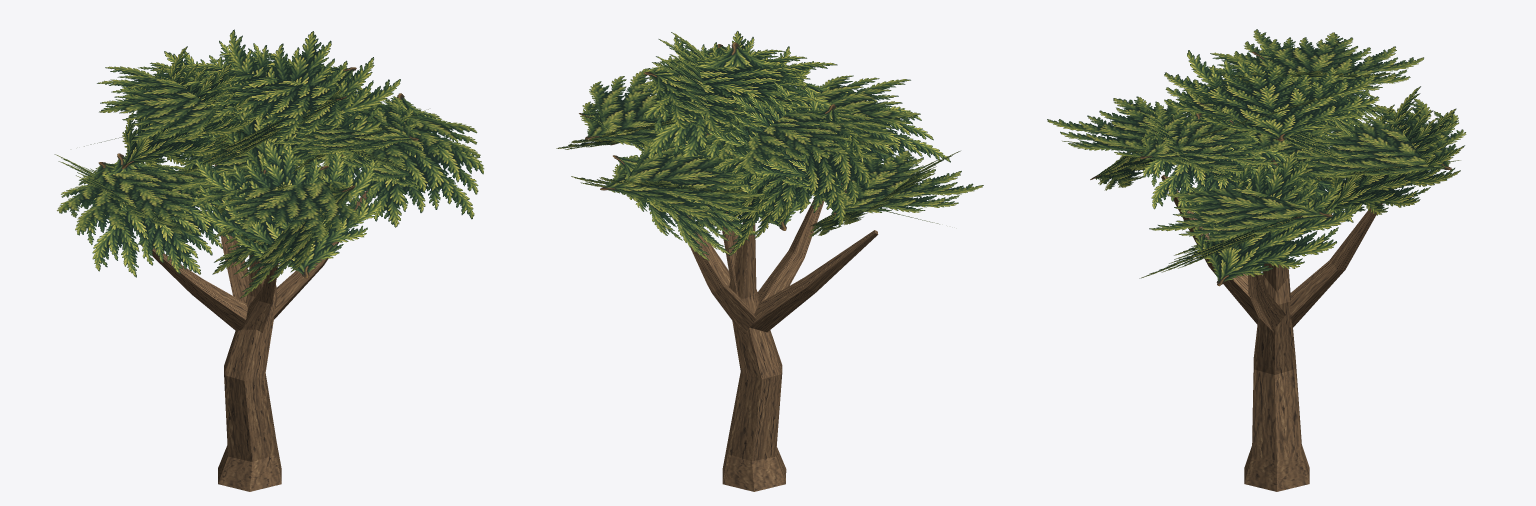
Rendered from Quercia_Test_01.obj.
The picture shows the model from 3 angles, left to right: view 1: azimuth 30°, elevation 25°; view 2: azimuth 150°, elevation 25°; view 3: azimuth 270°, elevation 25°; orthographic projection. The views are drawn at different scales.
Visible parts, largest first — view 1: Quercia_Test_01; view 2: Quercia_Test_01; view 3: Quercia_Test_01.
Part boxes in pixels (x1=…): Quercia_Test_01: x1=54, y1=29, x2=484, y2=491; Quercia_Test_01: x1=556, y1=31, x2=983, y2=491; Quercia_Test_01: x1=1047, y1=29, x2=1466, y2=491.
Size of the model in its own units: 6.72 by 6.14 by 6.48.
